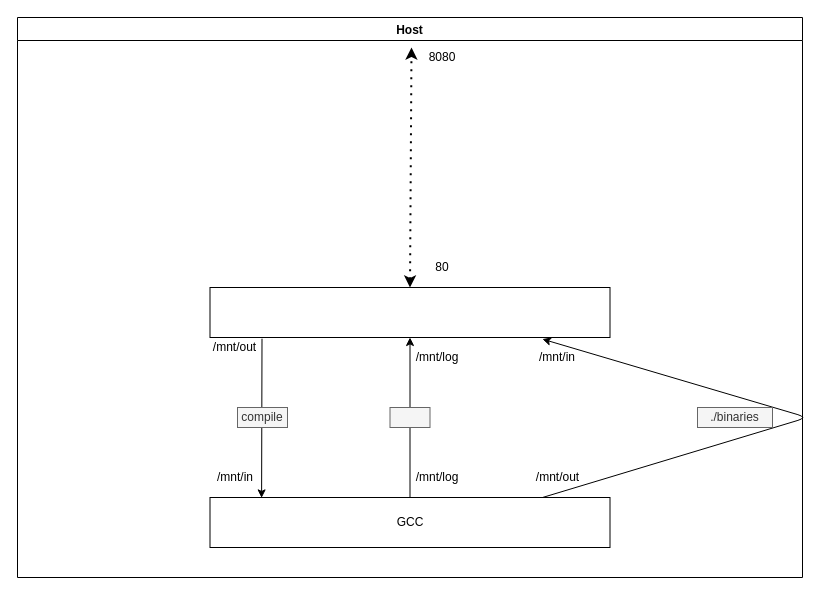
This 833x595 diagram has some shape labels left out. The centre of each missing label's shape, as x and y in pixels:
"lighttpd" goes at pixel 409 312.
"log" goes at pixel 409 417.
